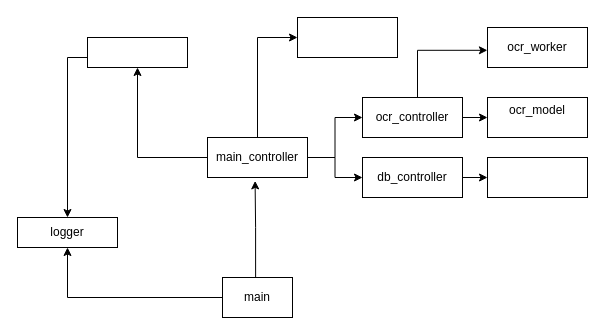
This 605x335 diagram has some shape labels left out. Here are the shapes that lost their labels. From the top down, the centre of each, then its label:
At pixel 137 52: "config_manager".
At pixel 347 37: "main_view".
At pixel 537 177: "db_model".
